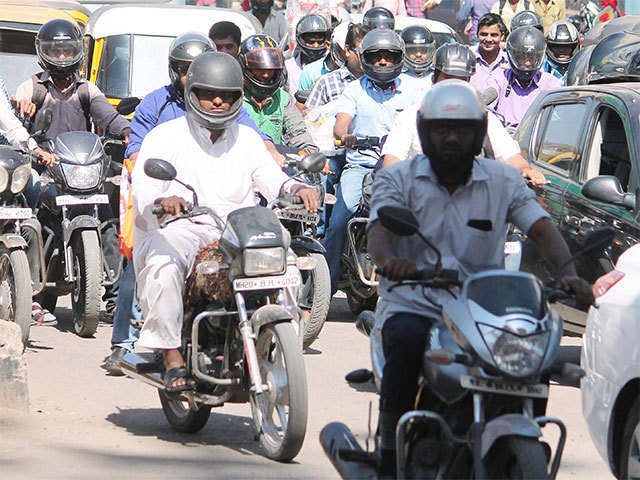helmet: (406, 82, 504, 198), (154, 32, 242, 136), (31, 16, 122, 91), (239, 25, 293, 108), (349, 31, 423, 91), (290, 7, 337, 72), (502, 27, 552, 85), (429, 40, 473, 85), (550, 21, 581, 72)
